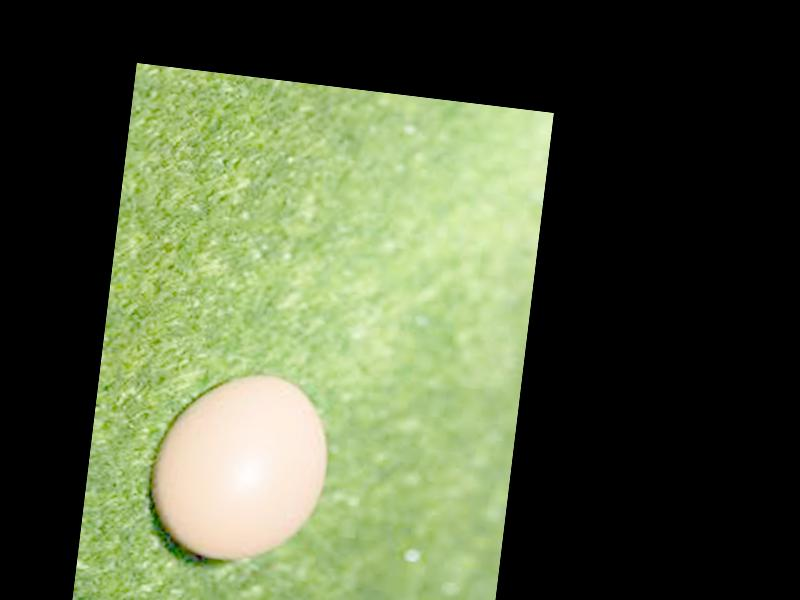Eggs: (142, 361, 334, 571)
